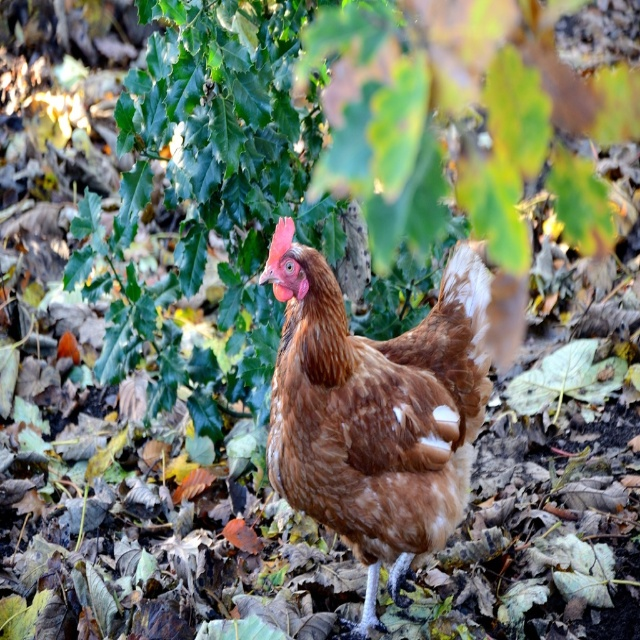Chicken: (258, 215, 497, 640)
